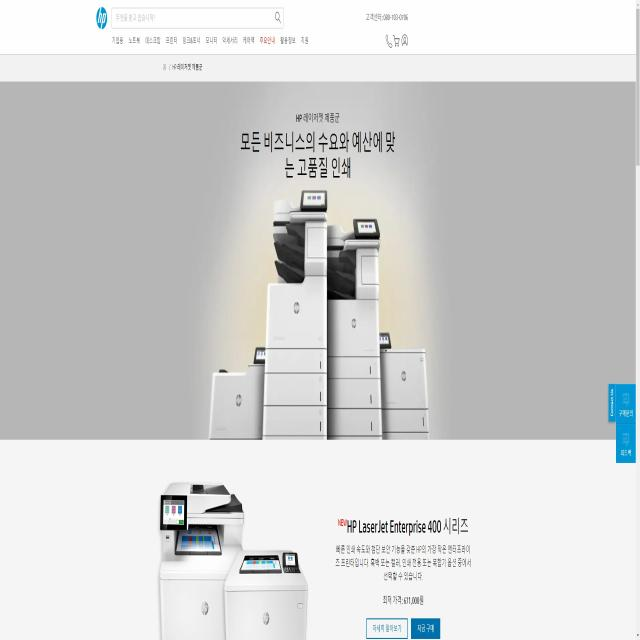search: (111, 5, 286, 31)
tab-bar: (110, 32, 310, 47)
